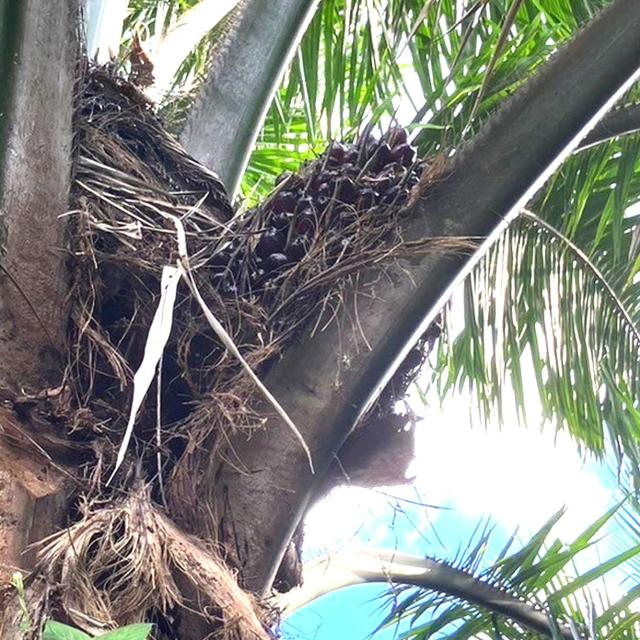ripe: (233, 121, 428, 346)
